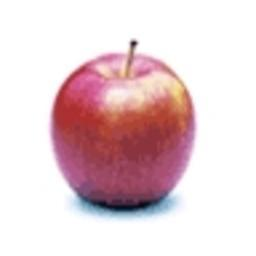apple: (48, 47, 197, 211)
